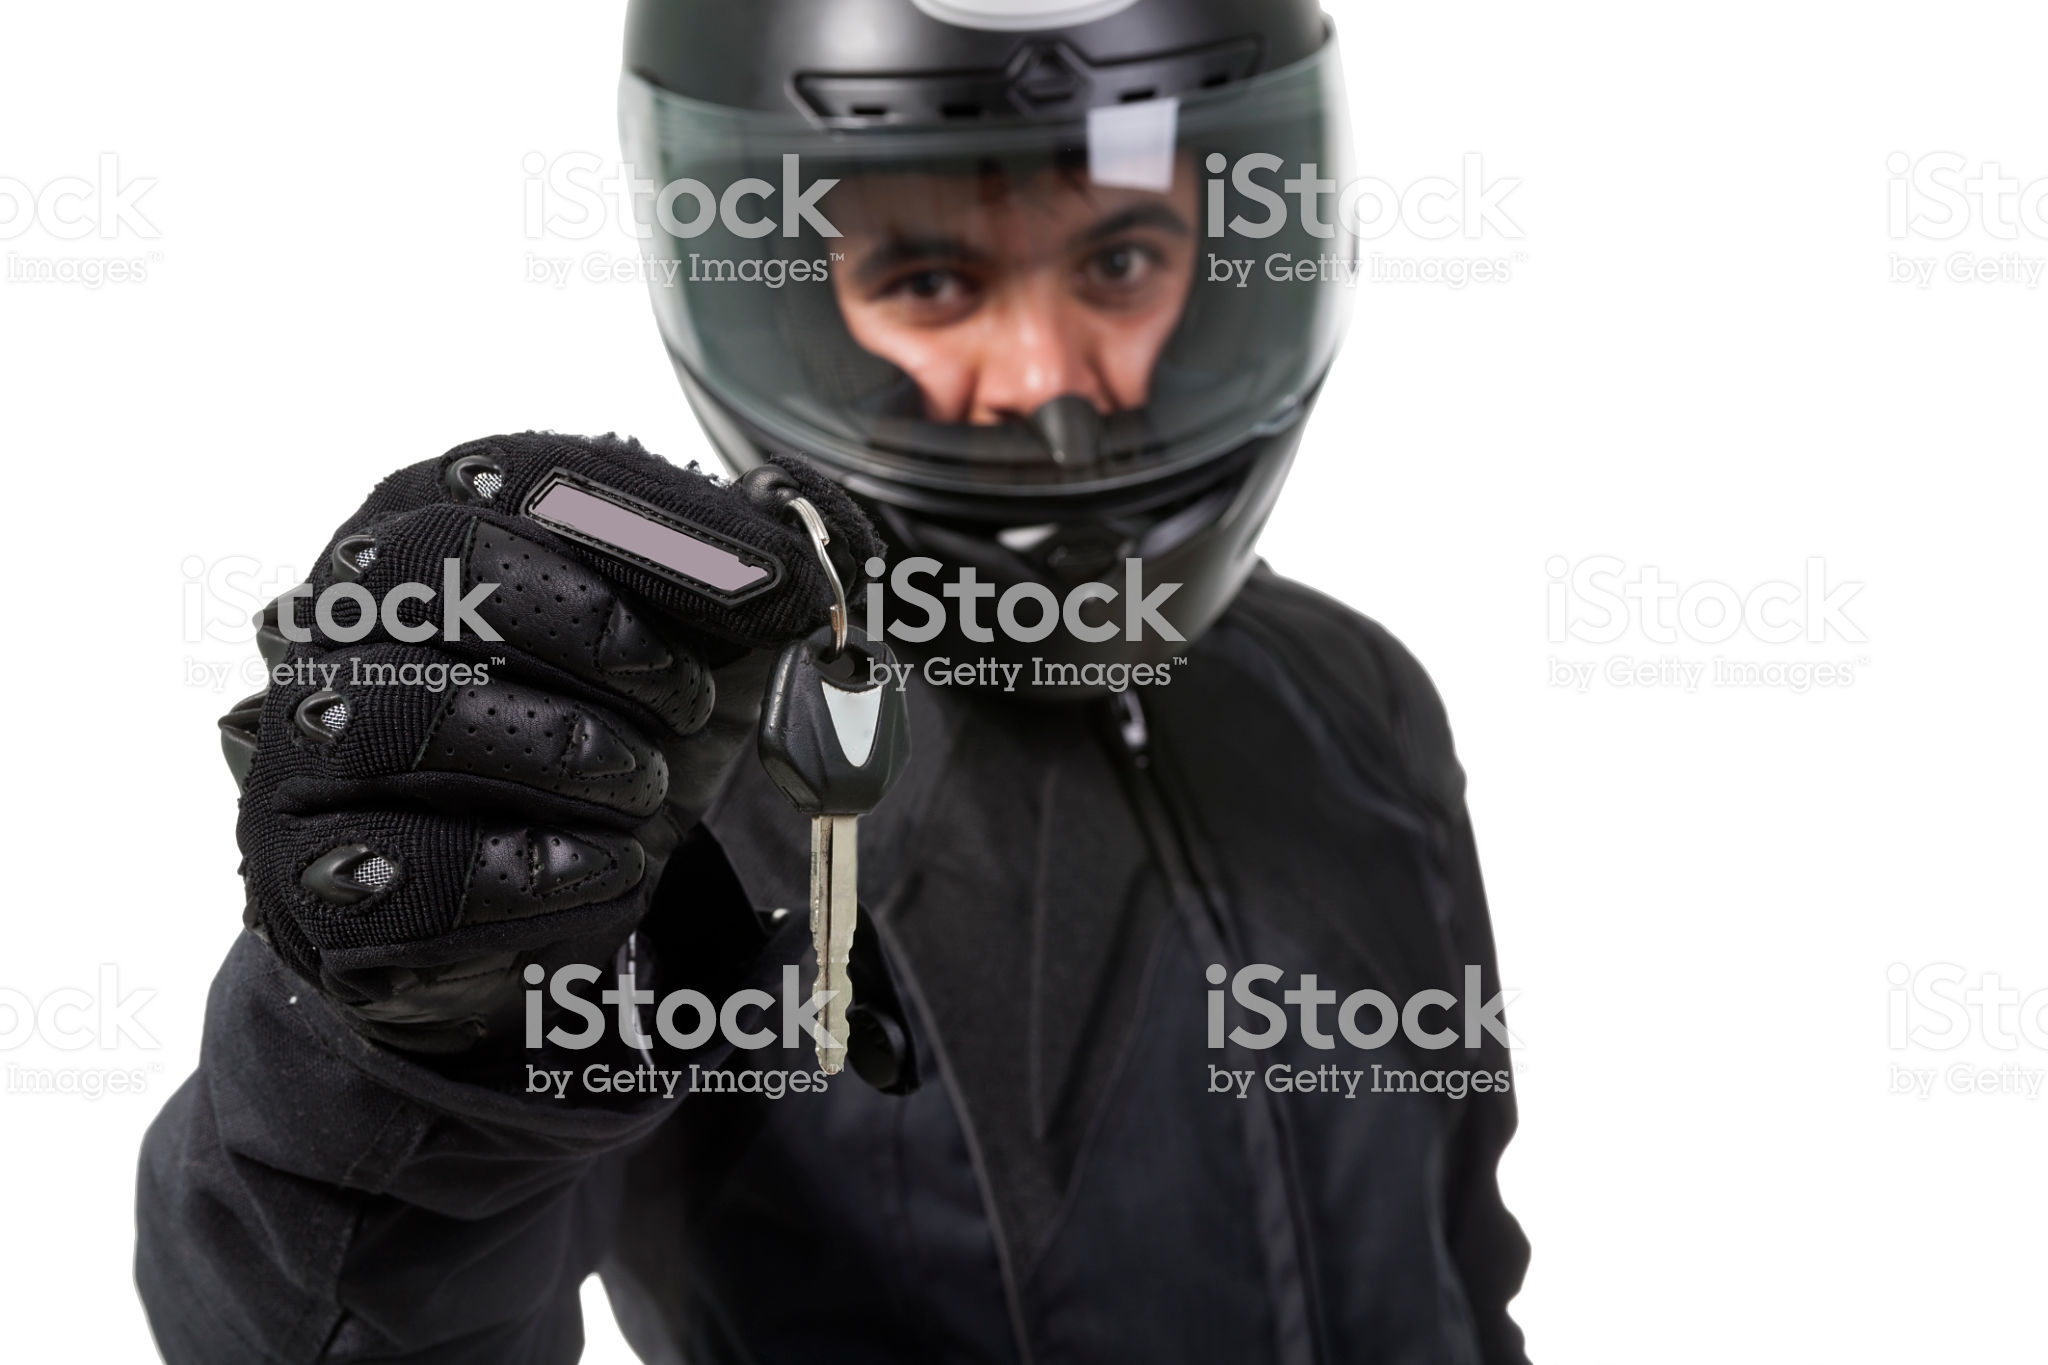helmet: (605, 11, 1375, 699)
